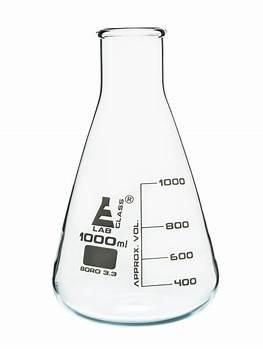Titrarion: (35, 6, 234, 317)
